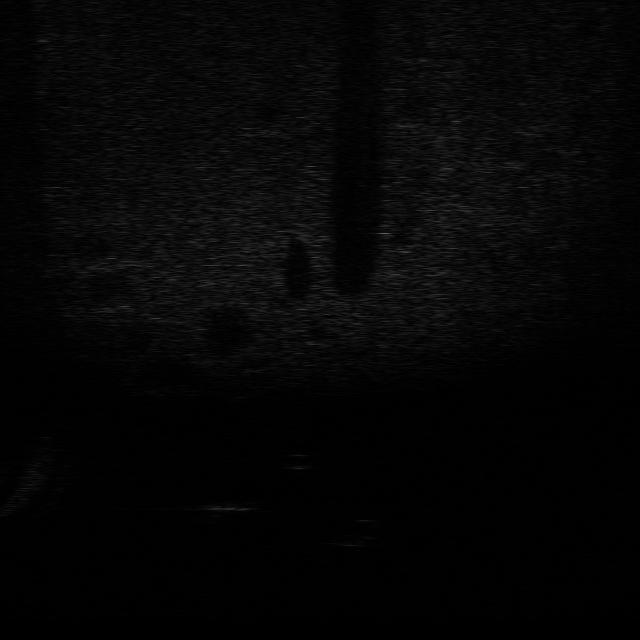ball: (272, 447, 316, 473)
square cage: (186, 493, 265, 526)
tyre: (325, 516, 385, 549)
